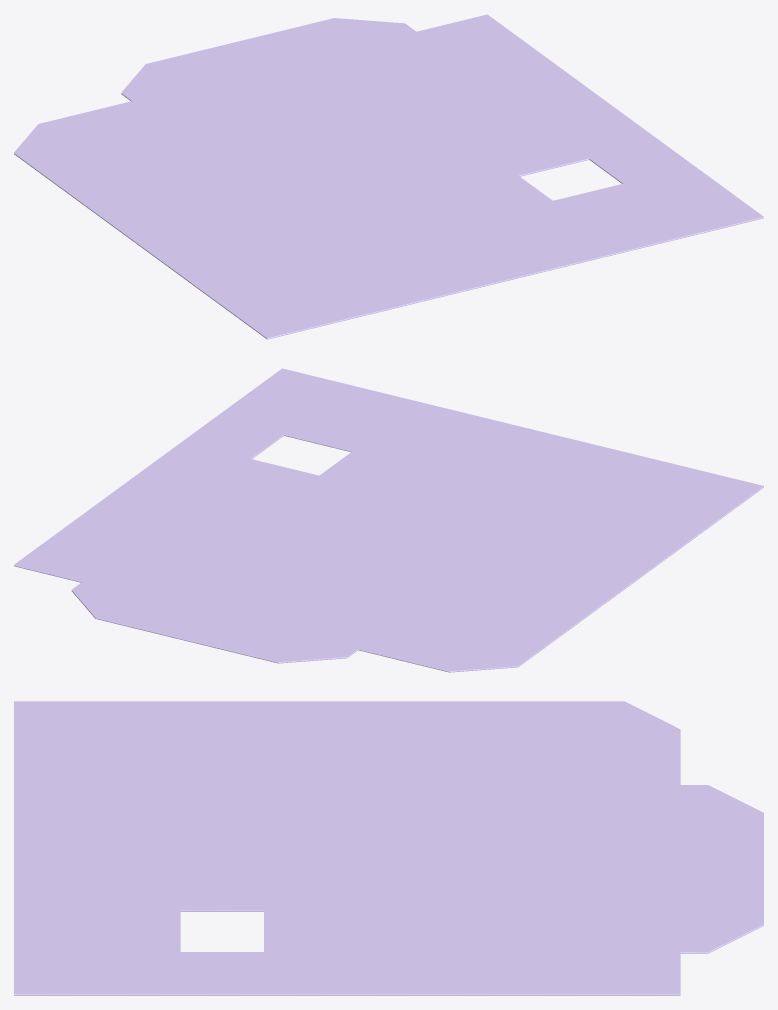
Rendered from sol.fbx.
3 views of the same model, one above another, from view 1: azimuth 30°, elevation 25°; view 2: azimuth 150°, elevation 25°; view 3: azimuth 270°, elevation 25° (orthographic). The views are drawn at different scales.
Visible parts, largest first — view 1: solv2; view 2: solv2; view 3: solv2.
Boxes of the visible parts, left/top/right/bottom form: solv2: left=14, top=14, right=763, bottom=339; solv2: left=14, top=368, right=763, bottom=672; solv2: left=14, top=701, right=763, bottom=995.
Bounding box in the file's own units: 97.77 × 0.3 × 106.
